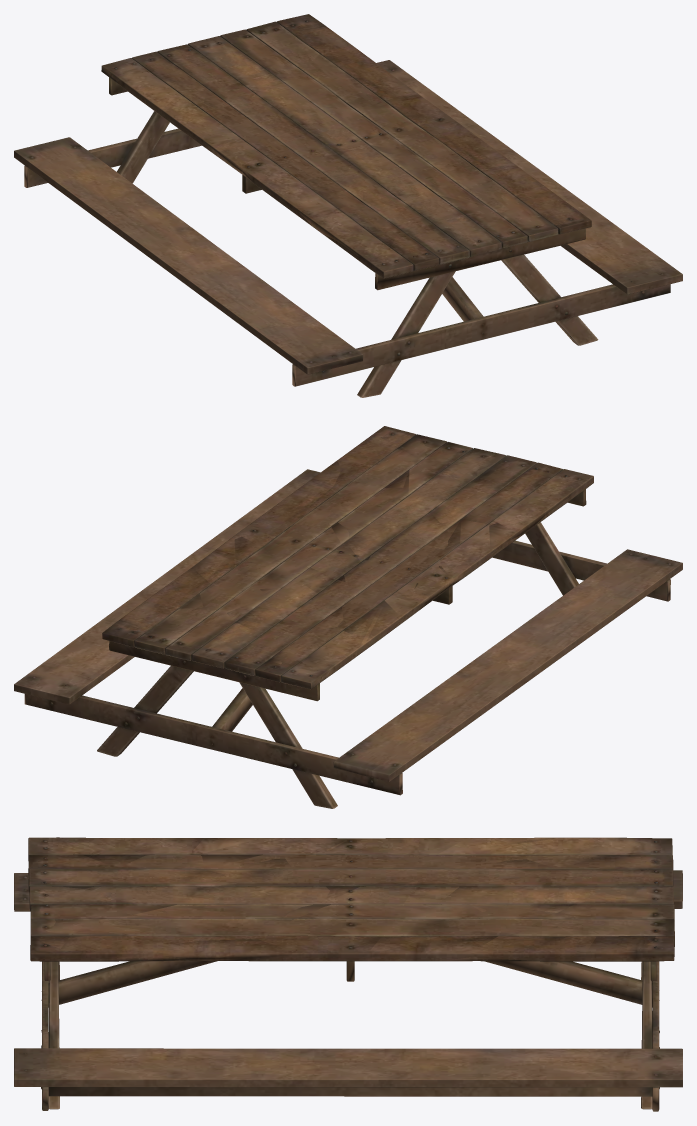
The model's file is wooden_picnic_table.glb.
3 views of the same model, one above another, from view 1: azimuth 30°, elevation 25°; view 2: azimuth 150°, elevation 25°; view 3: azimuth 270°, elevation 25° (orthographic). The views are drawn at different scales.
Parts seen in each view (by area): view 1: wooden_picnic_table, wooden_picnic_table_lo; view 2: wooden_picnic_table, wooden_picnic_table_lo; view 3: wooden_picnic_table, wooden_picnic_table_lo.
Boxes of the visible parts, x1=… form: wooden_picnic_table: x1=14, y1=14, x2=682, y2=397; wooden_picnic_table_lo: x1=14, y1=22, x2=682, y2=374; wooden_picnic_table: x1=14, y1=426, x2=682, y2=808; wooden_picnic_table_lo: x1=14, y1=429, x2=682, y2=794; wooden_picnic_table: x1=14, y1=837, x2=682, y2=1111; wooden_picnic_table_lo: x1=14, y1=837, x2=682, y2=1110.
Size of the model in its own units: 2.24 by 0.746 by 3.02.
Materials: 2 (2 with a texture image).
